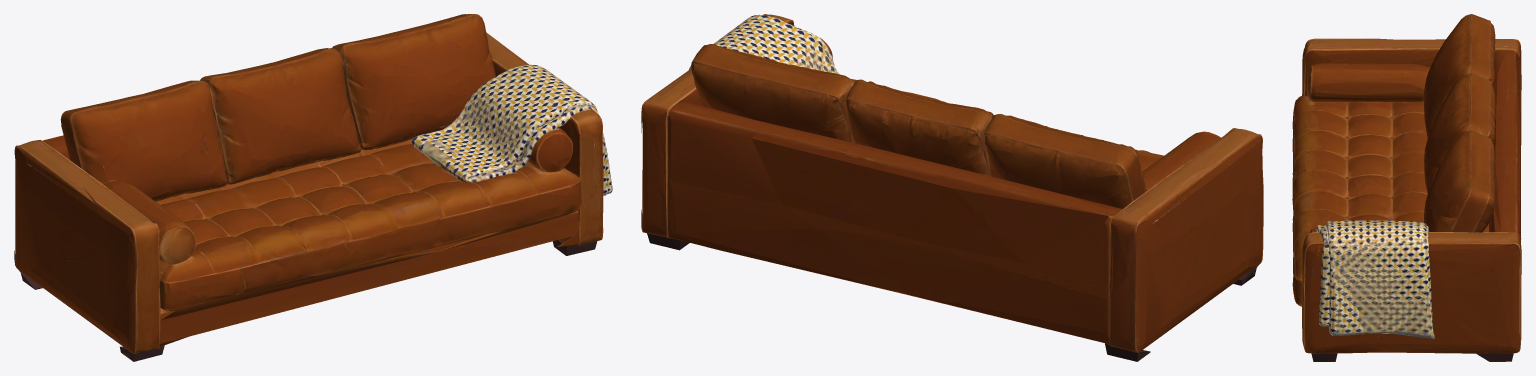
Rendered from sofa.glb.
3 views of the same model, side by side, from view 1: azimuth 30°, elevation 25°; view 2: azimuth 150°, elevation 25°; view 3: azimuth 270°, elevation 25° (orthographic). The views are drawn at different scales.
Parts seen in each view (by area): view 1: 0; view 2: 0; view 3: 0.
Boxes of the visible parts, <box> form: 0: <box>14,14,612,361</box>; 0: <box>641,14,1263,361</box>; 0: <box>1292,14,1521,361</box>.
Size of the model in its own units: 2.2 by 0.761 by 0.981.
Materials: 1 (1 with a texture image).
